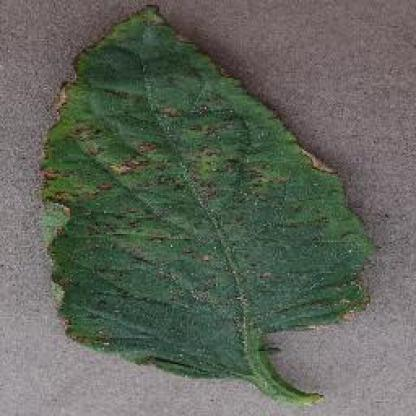bad leaf: (24, 5, 374, 403)
